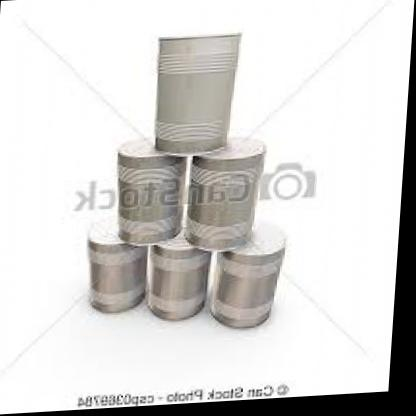Metal: (49, 1, 315, 349)
